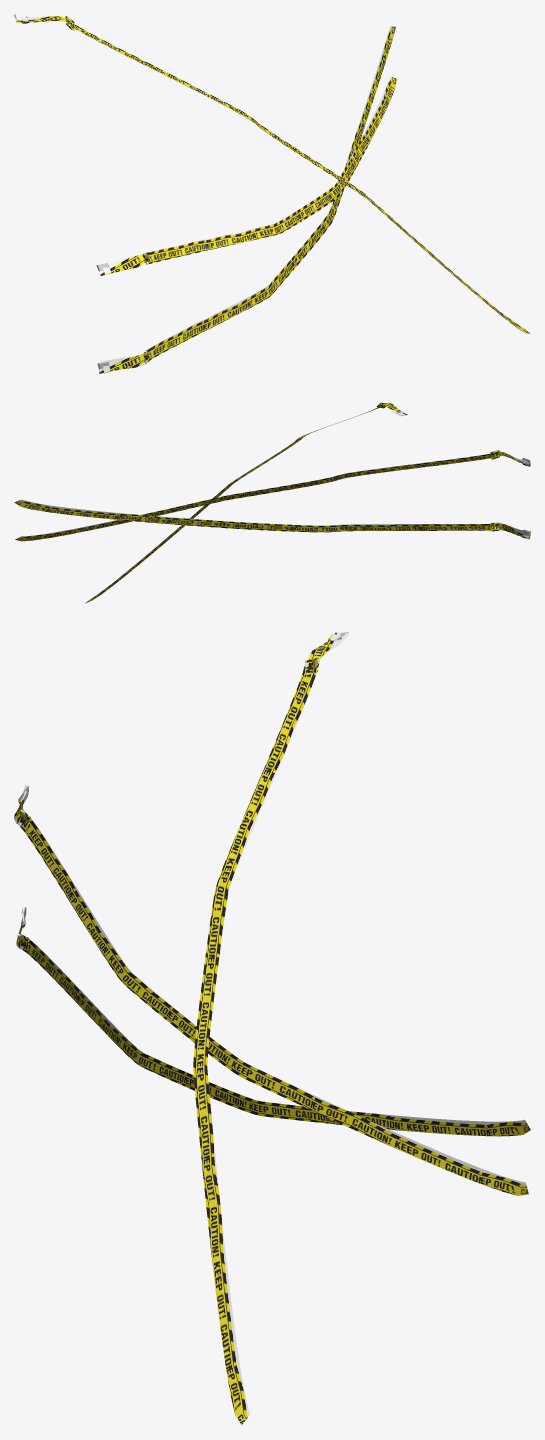
The model's file is caution tape.glb.
3 views of the same model, one above another, from view 1: azimuth 30°, elevation 25°; view 2: azimuth 150°, elevation 25°; view 3: azimuth 270°, elevation 25° (orthographic). The views are drawn at different scales.
Parts seen in each view (by area): view 1: BezierCurve.004; view 2: BezierCurve.004; view 3: BezierCurve.004.
Part boxes in pixels (x1,y1,x2,y2): BezierCurve.004: (14, 14, 530, 373); BezierCurve.004: (14, 402, 530, 603); BezierCurve.004: (14, 632, 530, 1425).
Bounding box in the file's own units: 4.54 × 3.37 × 3.12.
Materials: 1 (1 with a texture image).
